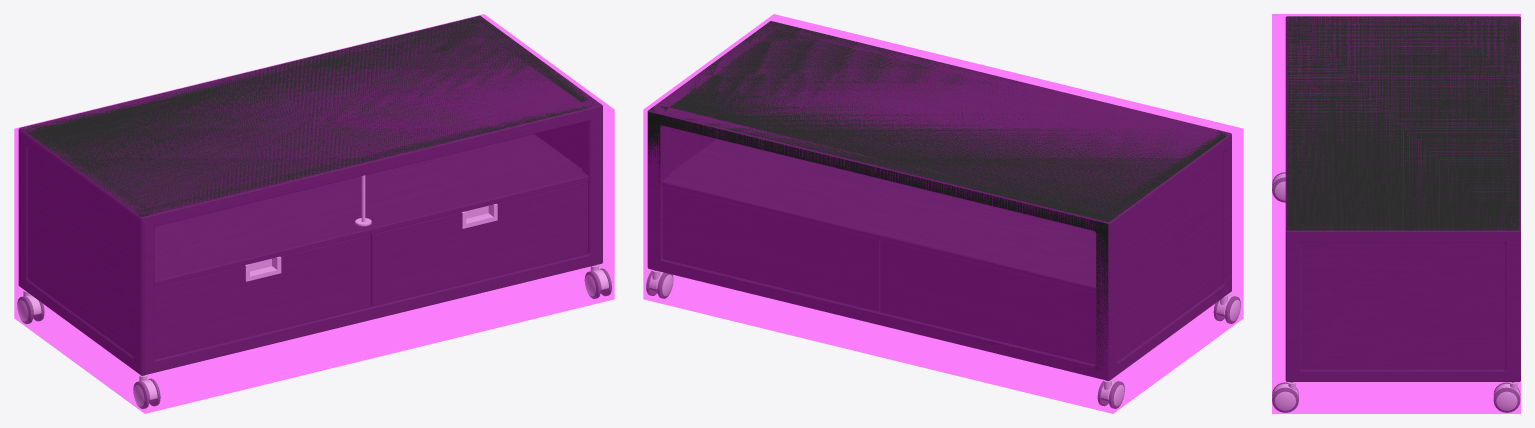
File: TVbass_A.fbx
3 views of the same model, side by side, from view 1: azimuth 30°, elevation 25°; view 2: azimuth 150°, elevation 25°; view 3: azimuth 270°, elevation 25° (orthographic). The views are drawn at different scales.
Visible parts, largest first — view 1: TVbass_A, boundingbox; view 2: TVbass_A, boundingbox; view 3: TVbass_A, boundingbox.
Part boxes in pixels (bbox=[...]): TVbass_A: bbox=[17, 15, 611, 408]; boundingbox: bbox=[14, 14, 614, 413]; TVbass_A: bbox=[646, 21, 1240, 408]; boundingbox: bbox=[643, 14, 1243, 413]; TVbass_A: bbox=[1272, 16, 1520, 412]; boundingbox: bbox=[1272, 14, 1520, 413].
Bounding box in the file's own units: 132 × 51.03 × 63.48.
Materials: 4 (1 with a texture image).
